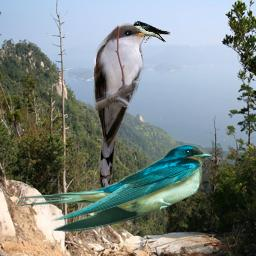Cuckoo: (92, 23, 155, 188)
Swallow: (15, 144, 212, 233), (133, 21, 171, 43)
